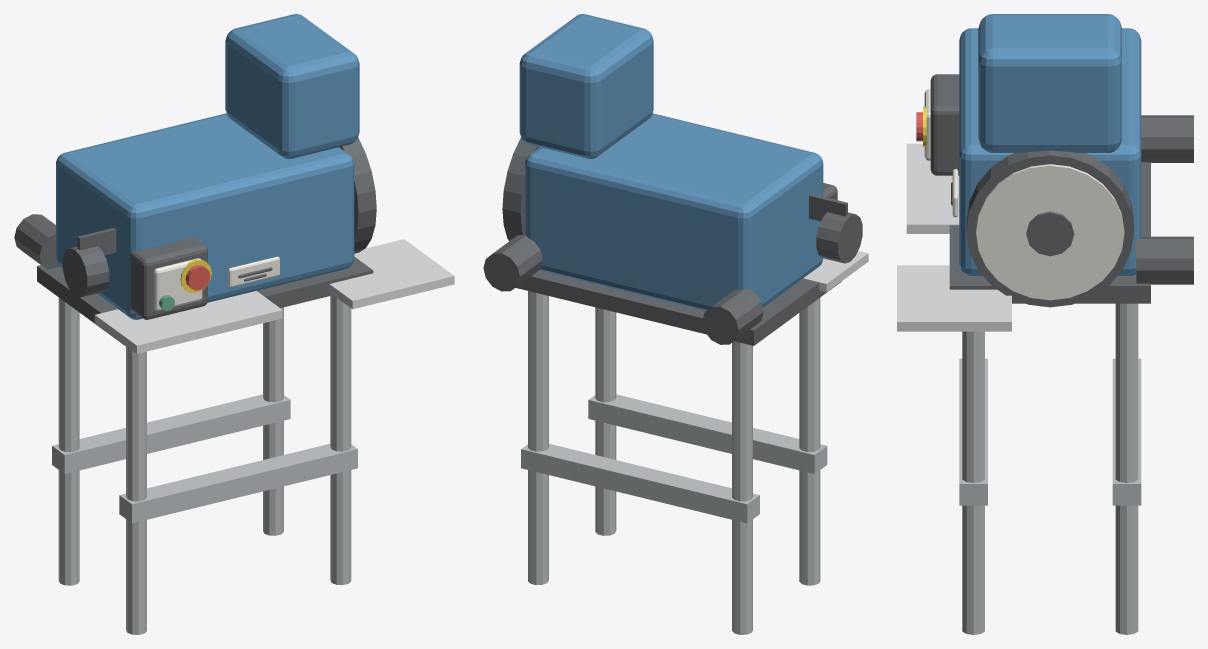
The model's file is woodworking-workshop-and-joinery-woodworking-workshop--da41b4be__34245.glb.
The picture shows the model from 3 angles, left to right: view 1: azimuth 30°, elevation 25°; view 2: azimuth 150°, elevation 25°; view 3: azimuth 270°, elevation 25°; orthographic projection. The views are drawn at different scales.
Visible parts, largest first — view 1: woodworking-workshop-and-joinery-disc-and-belt-sander; view 2: woodworking-workshop-and-joinery-disc-and-belt-sander; view 3: woodworking-workshop-and-joinery-disc-and-belt-sander, disc-spin/cream, disc-spin/charcoal.
Boxes of the visible parts, x1=… form: woodworking-workshop-and-joinery-disc-and-belt-sander: x1=14, y1=14, x2=454, y2=634; woodworking-workshop-and-joinery-disc-and-belt-sander: x1=483, y1=14, x2=868, y2=634; woodworking-workshop-and-joinery-disc-and-belt-sander: x1=897, y1=14, x2=1193, y2=634; disc-spin/cream: x1=976, y1=164, x2=1124, y2=300; disc-spin/charcoal: x1=1026, y1=211, x2=1074, y2=256.
Bounding box in the file's own units: 0.92 × 1.36 × 0.62.
